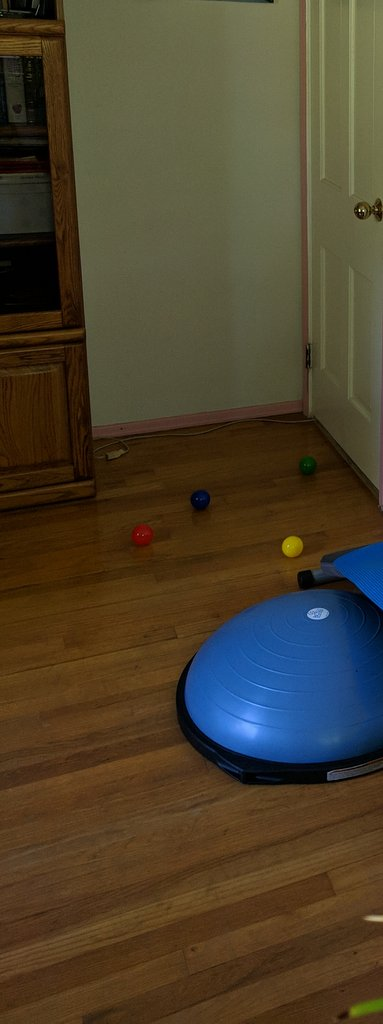ball: (189, 488, 210, 511)
